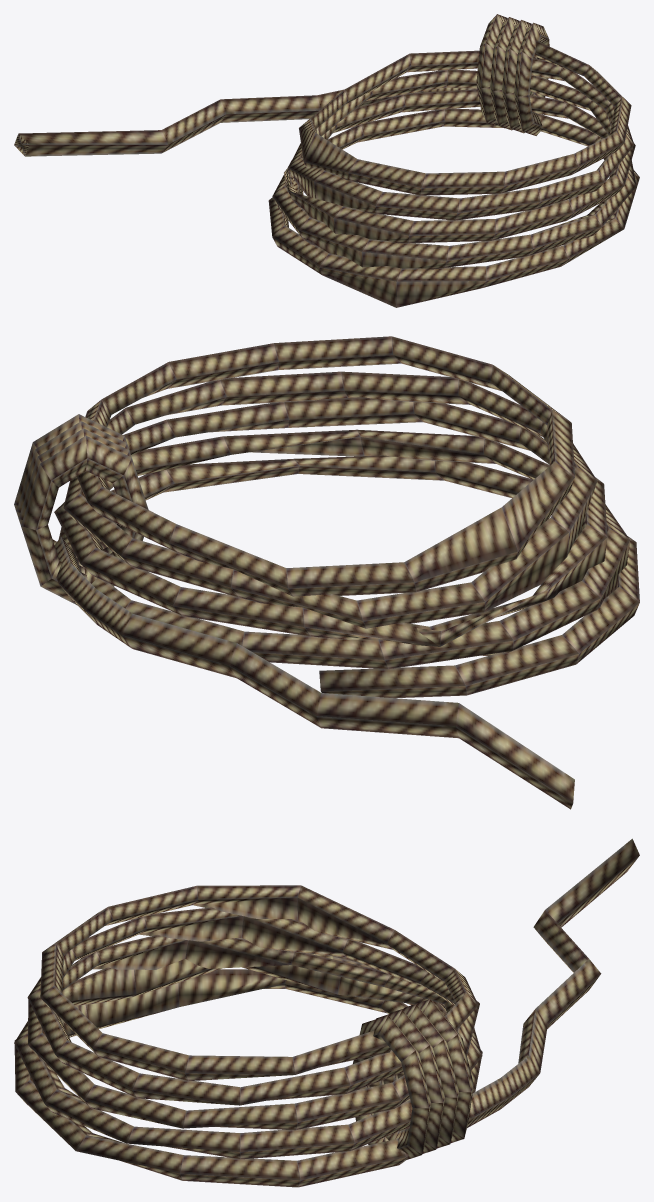
Rendered from S_Build_West075.FBX.
The picture shows the model from 3 angles, top to bottom: view 1: azimuth 30°, elevation 25°; view 2: azimuth 150°, elevation 25°; view 3: azimuth 270°, elevation 25°; orthographic projection. The views are drawn at different scales.
Visible parts, largest first — view 1: S_Build_West075; view 2: S_Build_West075; view 3: S_Build_West075.
Boxes of the visible parts, x1=… form: S_Build_West075: x1=14, y1=14, x2=639, y2=307; S_Build_West075: x1=14, y1=336, x2=639, y2=809; S_Build_West075: x1=14, y1=838, x2=639, y2=1187.
Bounding box in the file's own units: 160 × 139 × 46.03.
